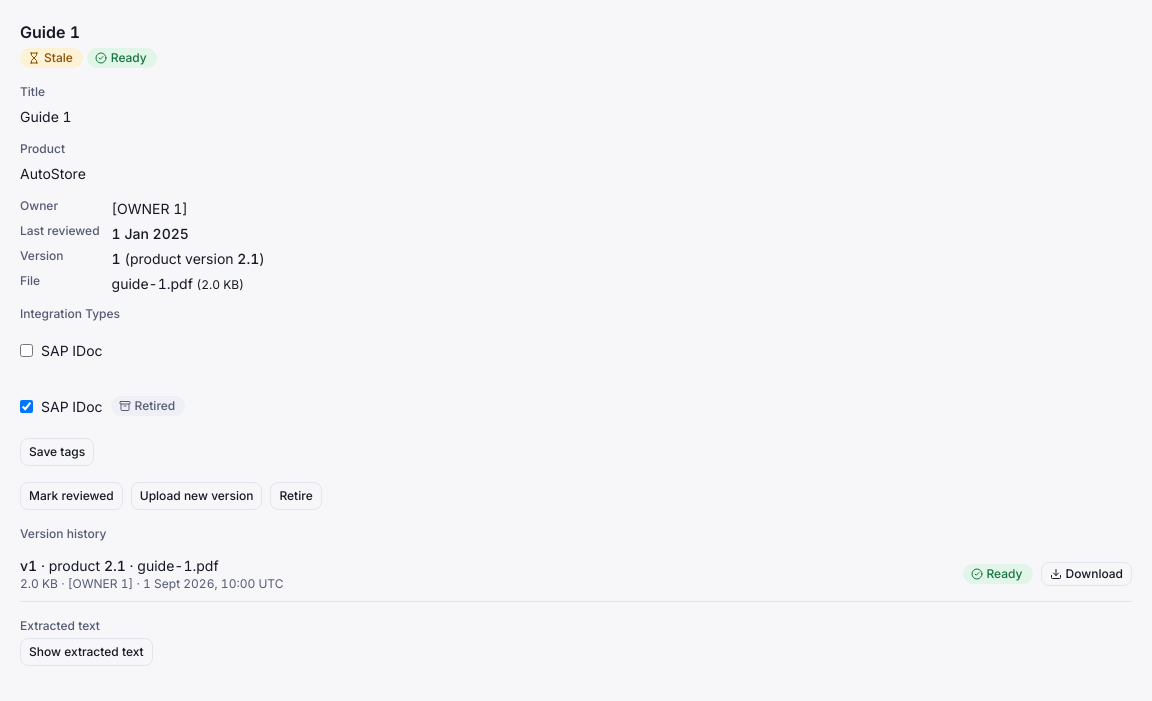
Test: SourceInspector › a 412 shows who to reload from and overwrites nothing
What coordinates should you click on to do the following:
click the button "Mark reviewed"
I would click on:
 (71, 496)
Its box is [20,482,123,510].
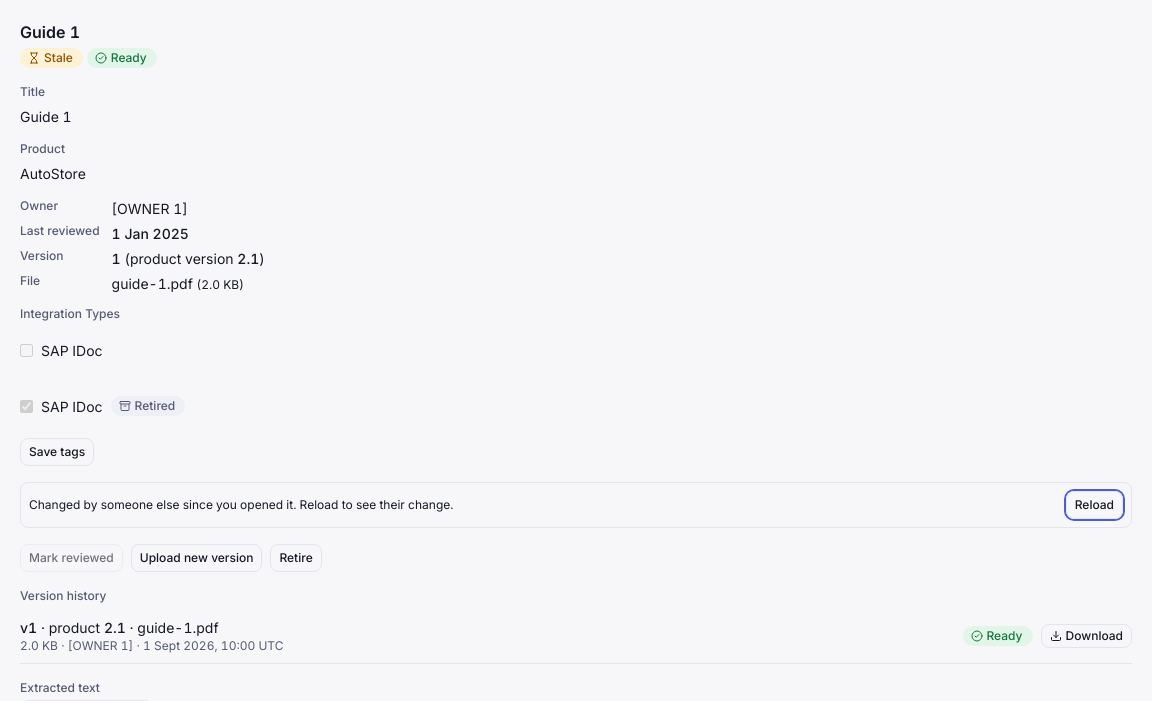
Expected: the text "Changed by someone else" is shown, [29,497,454,512]
Expected: the button "Reload" is shown, [1066,491,1123,519]
